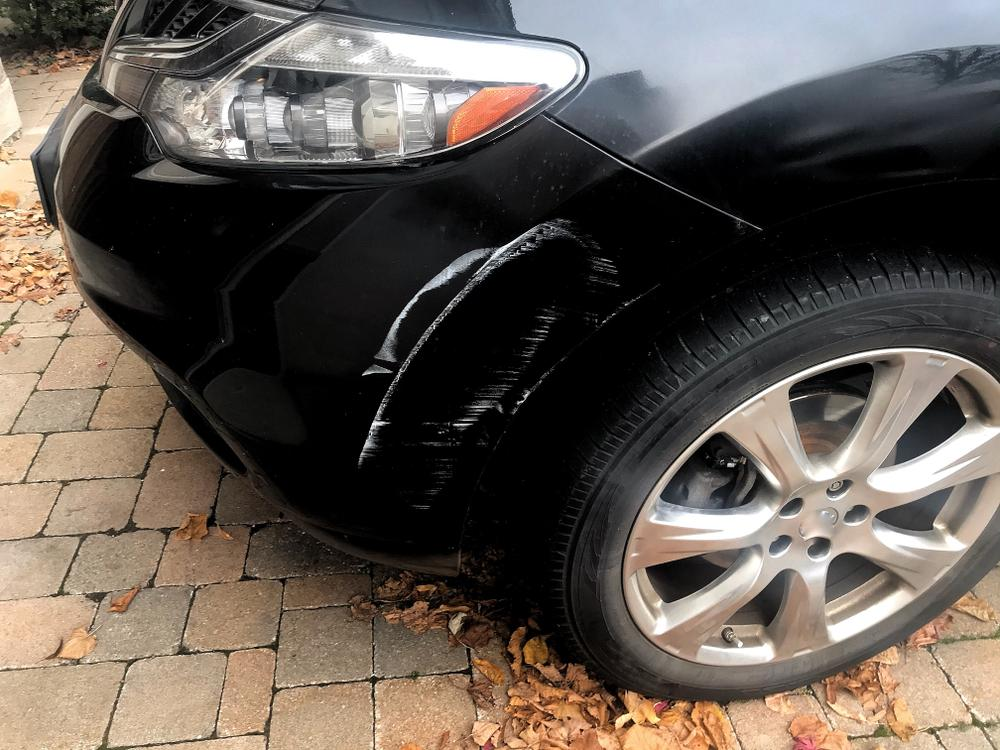scratch: (362, 217, 645, 516)
